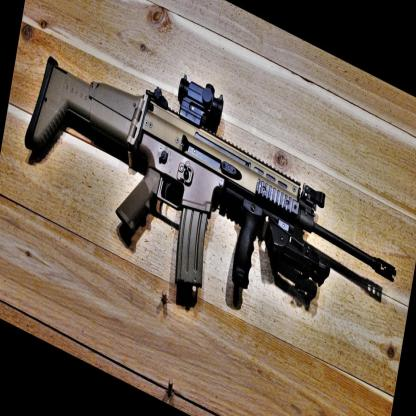rifle: (16, 13, 411, 373)
